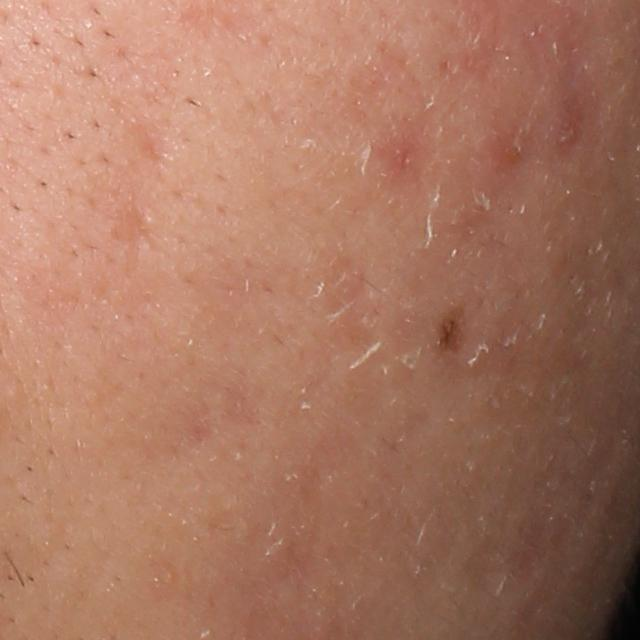atrophic_scar: (104, 188, 172, 279), (112, 100, 182, 174), (458, 529, 515, 606)
nevus: (436, 302, 470, 355)
